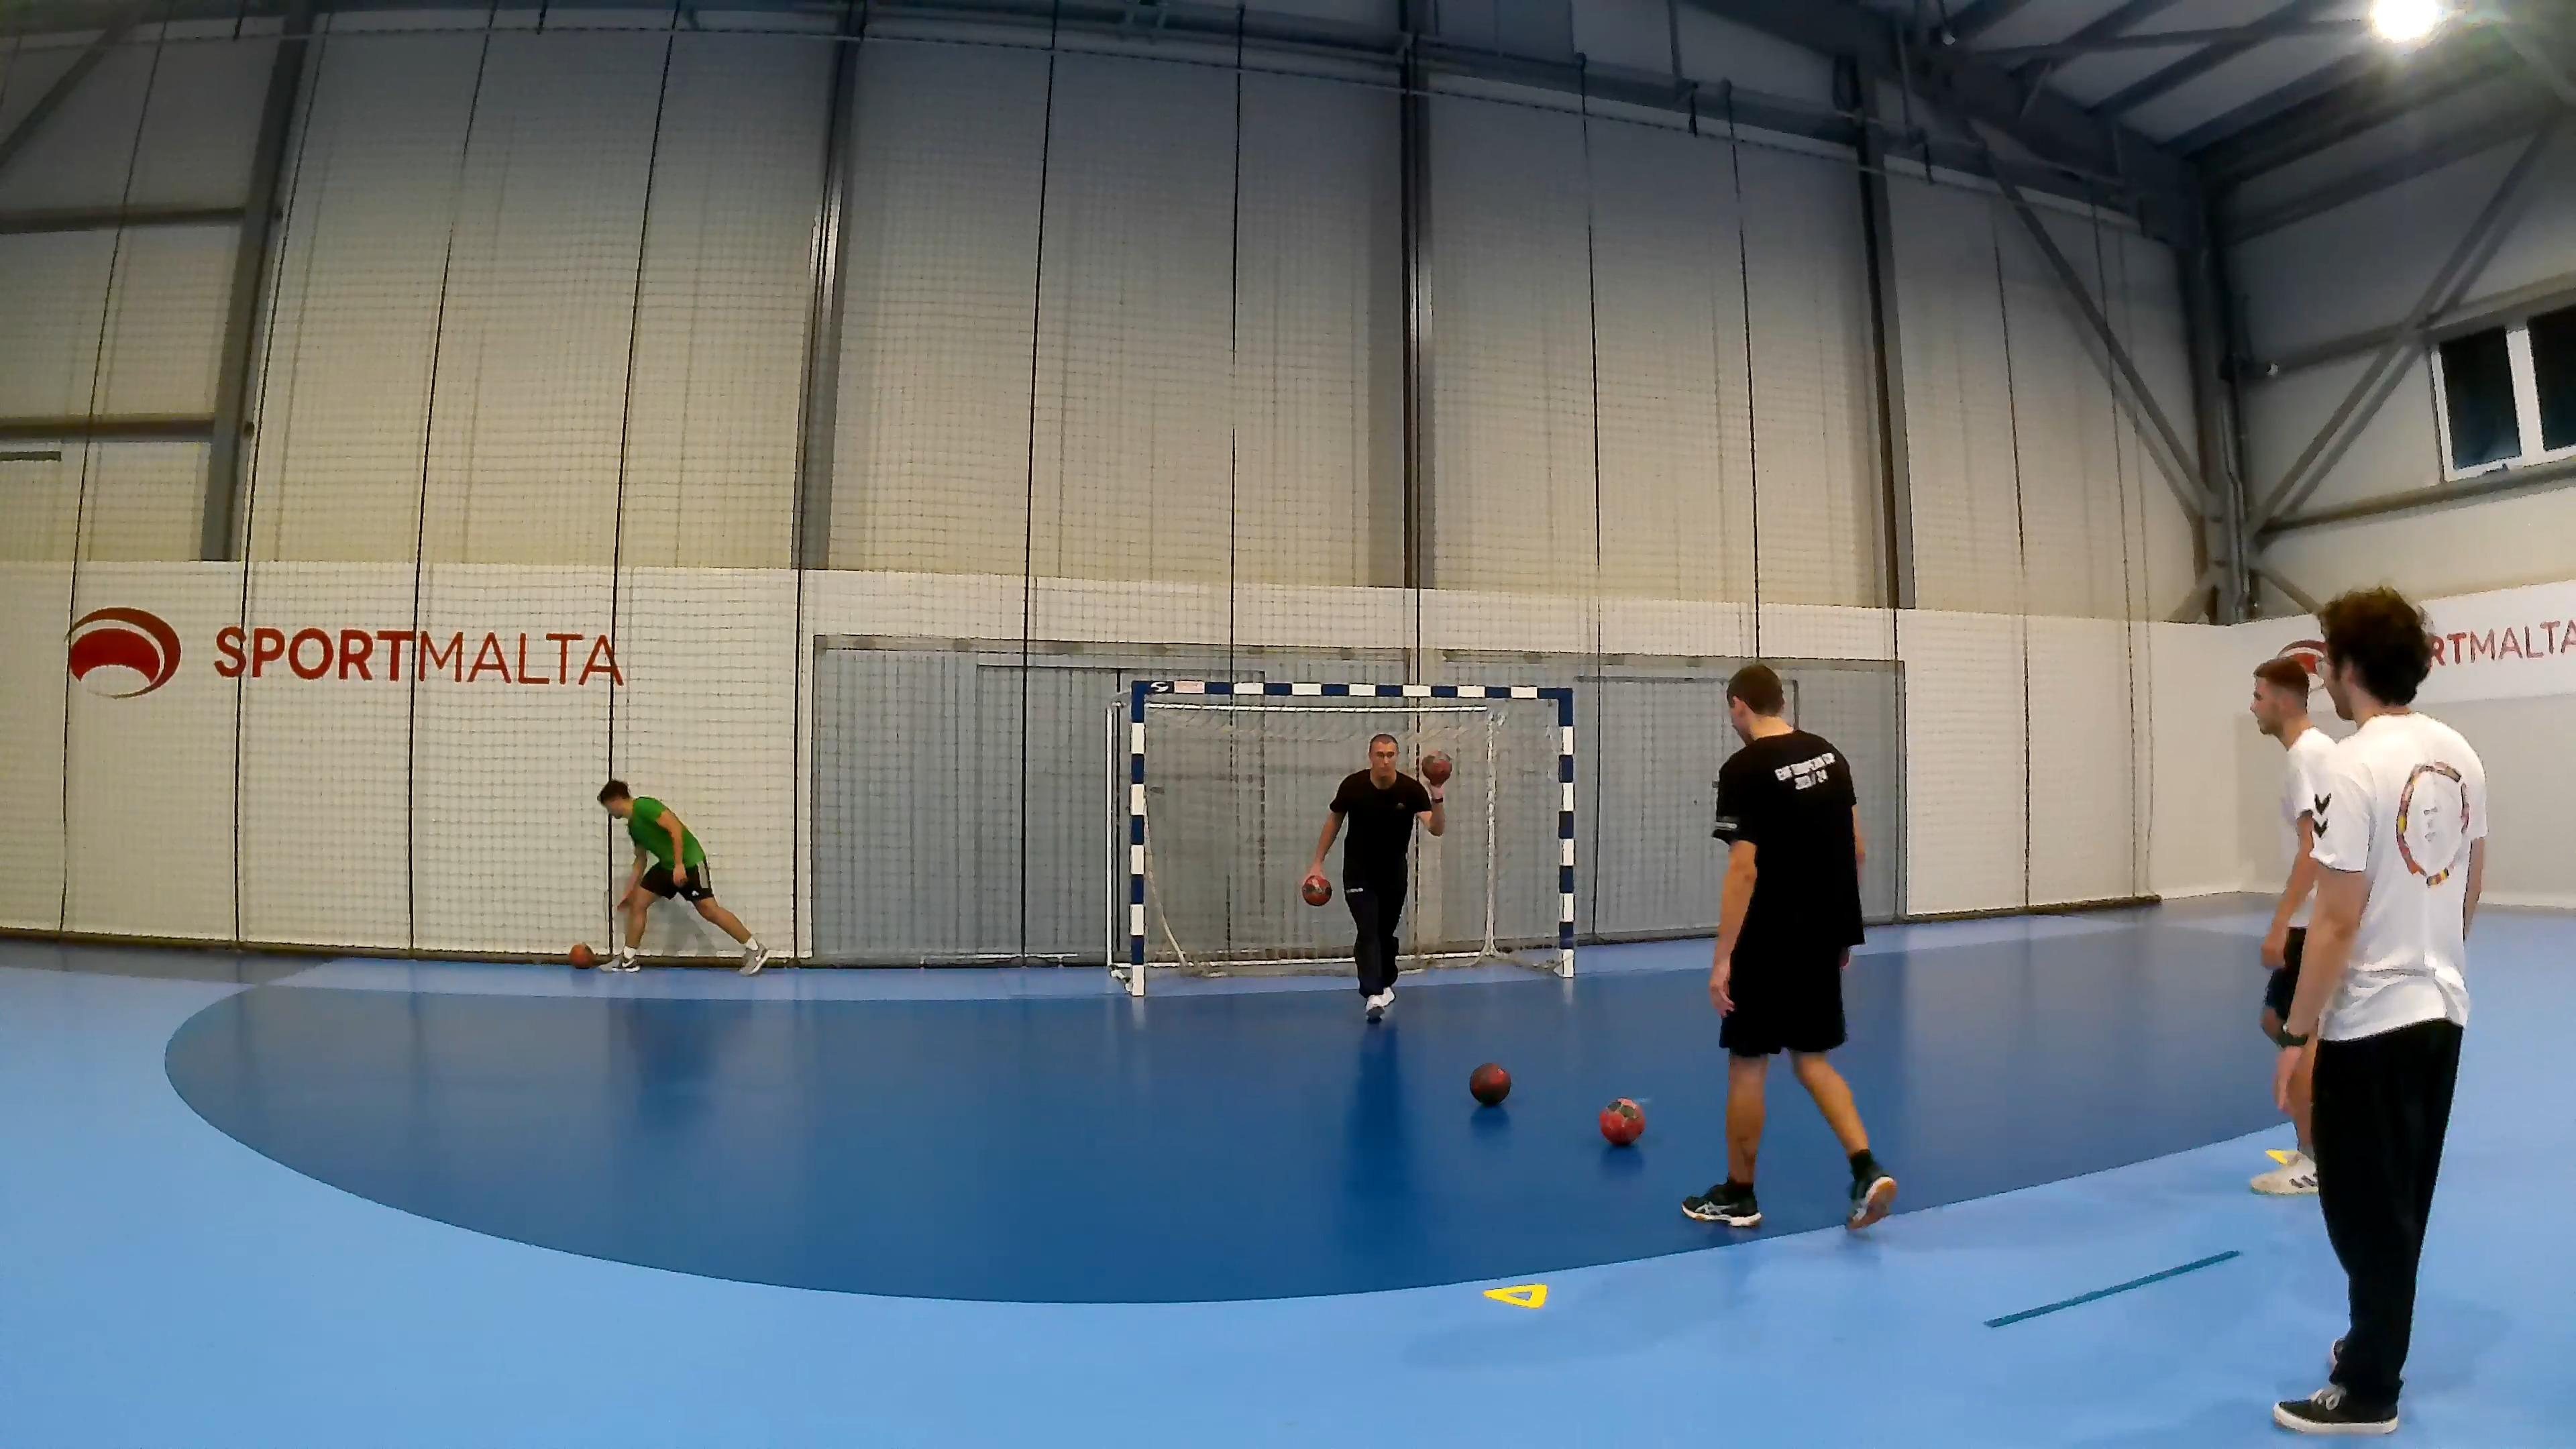handball: (1598, 1097, 1644, 1145), (1468, 1060, 1511, 1104), (1421, 752, 1451, 784), (1300, 872, 1330, 904), (568, 941, 594, 966)
